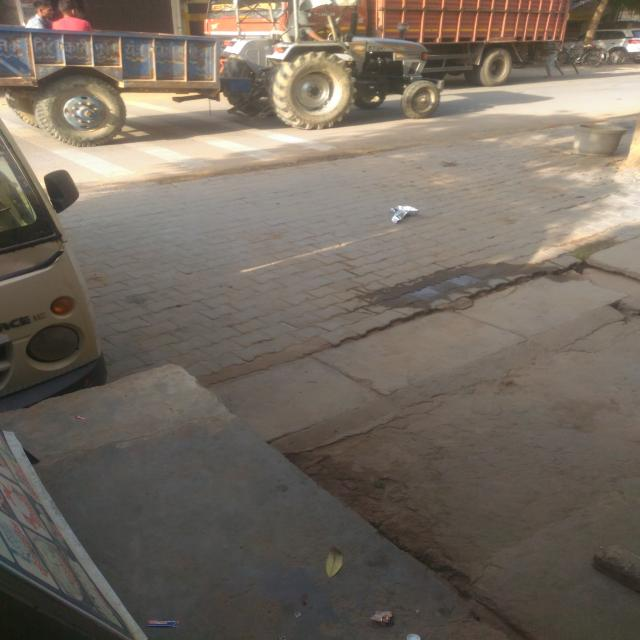Truck: (196, 0, 598, 95)
tempo: (0, 88, 103, 395)
tractor: (0, 27, 480, 142)
